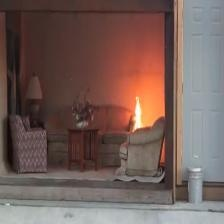fire: (131, 88, 146, 127)
